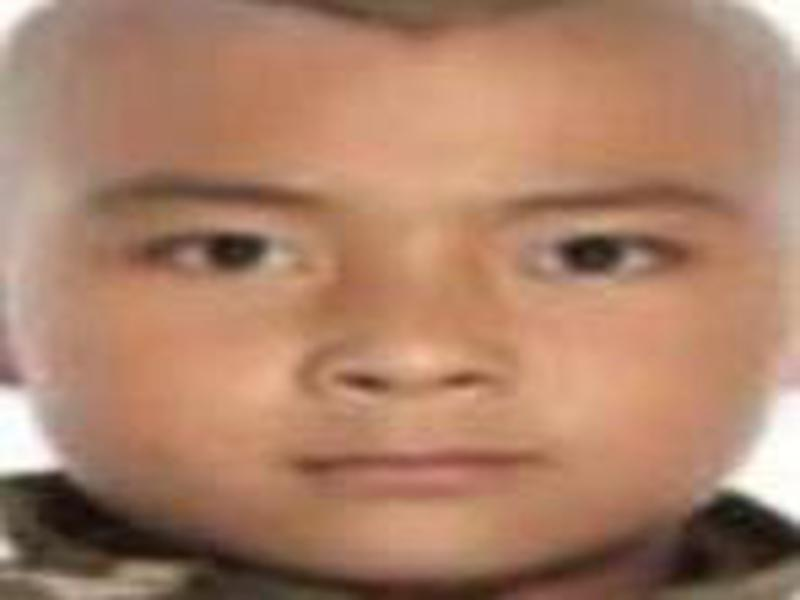without_mask: (4, 70, 800, 600)
